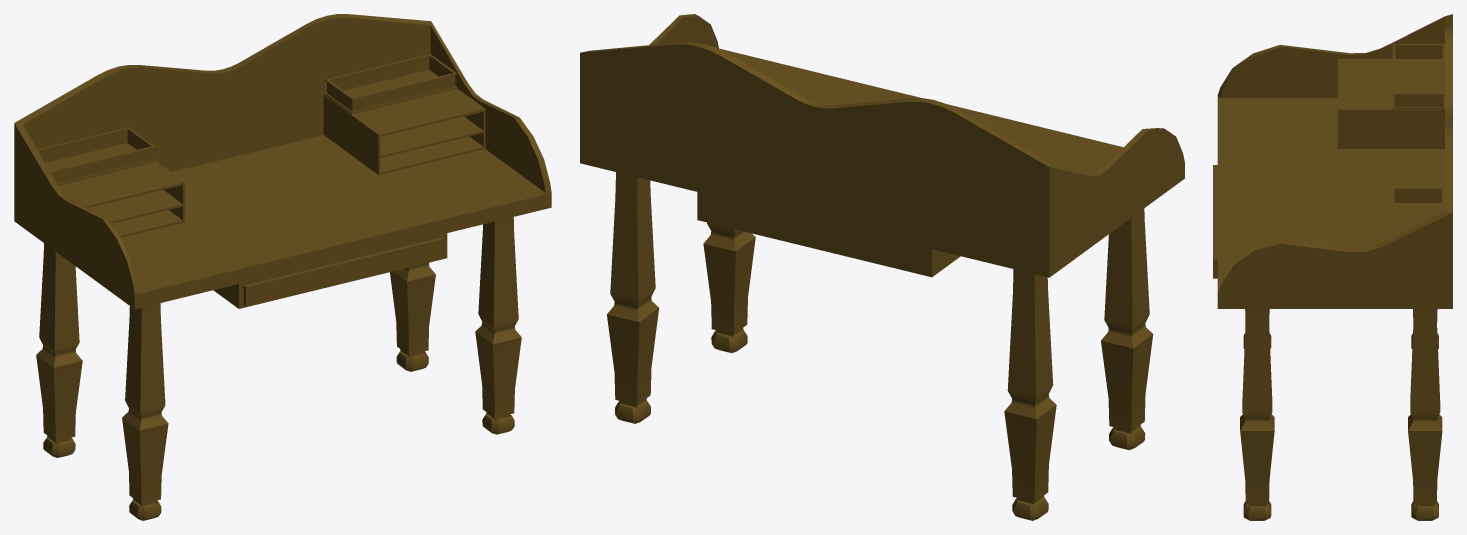
File: Model_Desk.fbx
The picture shows the model from 3 angles, left to right: view 1: azimuth 30°, elevation 25°; view 2: azimuth 150°, elevation 25°; view 3: azimuth 270°, elevation 25°; orthographic projection. The views are drawn at different scales.
Visible parts, largest first — view 1: pCube29, pCube31, pCube37, pCube36, pCube34, pCube30, pCube33, pCube32, pCube35; view 2: pCube29, pCube34, pCube35, pCube37, pCube36, pCube30; view 3: pCube29, pCube30, pCube36, pCube35, pCube32, pCube31, pCube33.
Part boxes in pixels (x1,y1,x2,y2): pCube29: [14, 14, 551, 309]; pCube31: [323, 88, 485, 174]; pCube37: [122, 303, 168, 520]; pCube36: [475, 217, 521, 434]; pCube34: [36, 243, 82, 457]; pCube30: [58, 161, 184, 237]; pCube33: [324, 54, 457, 114]; pCube32: [37, 127, 155, 185]; pCube35: [390, 262, 435, 371]; pCube29: [580, 14, 1184, 277]; pCube34: [1004, 269, 1056, 520]; pCube35: [607, 172, 658, 423]; pCube37: [1101, 208, 1153, 450]; pCube36: [703, 222, 755, 353]; pCube30: [1015, 143, 1105, 173]; pCube29: [1213, 14, 1452, 308]; pCube30: [1337, 58, 1444, 148]; pCube36: [1240, 309, 1274, 520]; pCube35: [1408, 309, 1442, 520]; pCube32: [1392, 44, 1444, 109]; pCube31: [1337, 202, 1444, 249]; pCube33: [1392, 187, 1444, 237].
Bounding box in the file's own units: 2 × 1.65 × 1.02.
